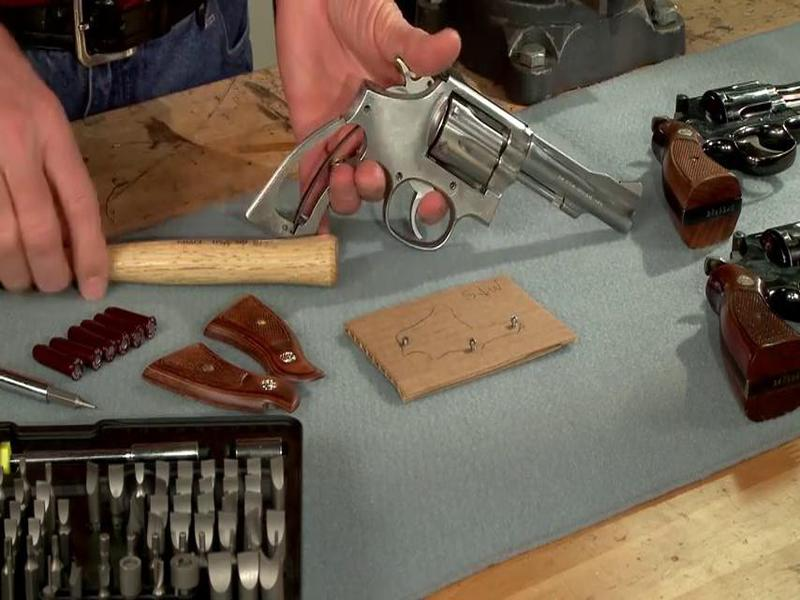Revolver: (236, 36, 657, 303)
